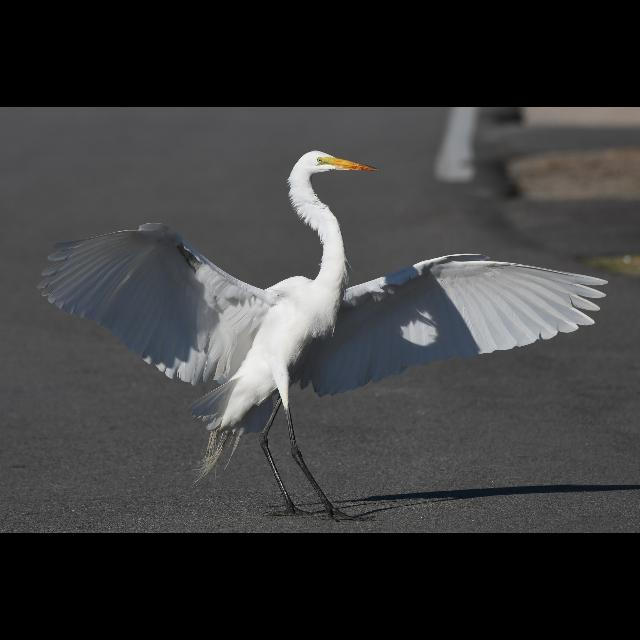egret: (39, 143, 614, 525)
